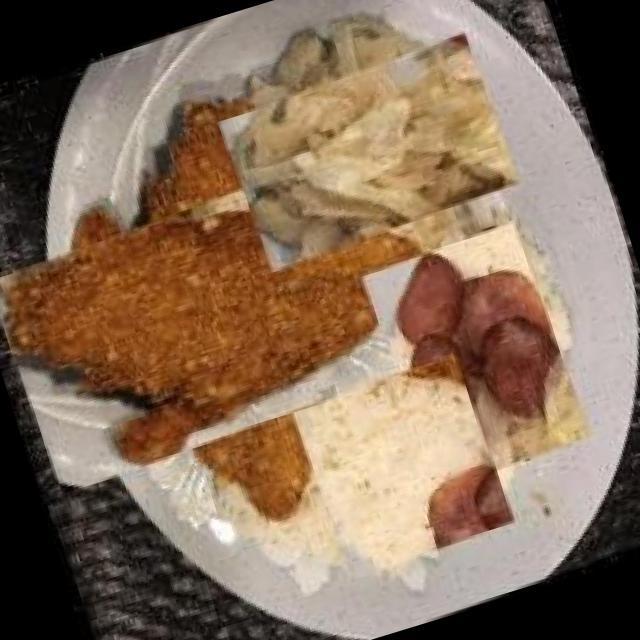chinese_cabbage: (230, 13, 508, 292)
chinese_sausage: (359, 218, 594, 496)
fried_chicken: (9, 104, 434, 528)
rice: (288, 352, 520, 582)
